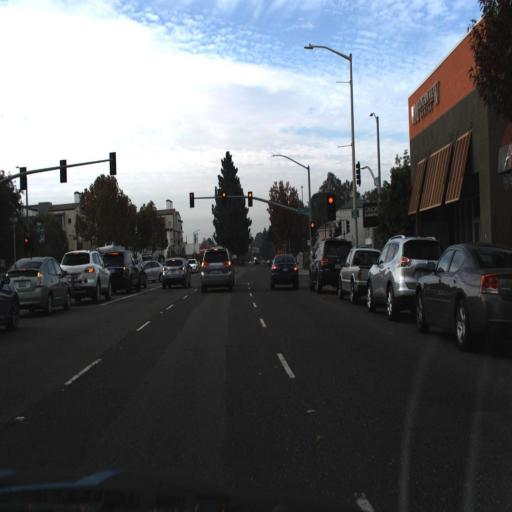car: (412, 240, 511, 343), (365, 228, 438, 316), (4, 250, 74, 321), (58, 246, 118, 309), (335, 242, 383, 304), (307, 236, 352, 291), (198, 242, 233, 294), (106, 248, 145, 294), (268, 248, 301, 294), (159, 253, 190, 290)
trafficLight-Red: (327, 192, 336, 223), (218, 187, 229, 210), (308, 216, 318, 240), (188, 190, 197, 212), (246, 188, 254, 209)
